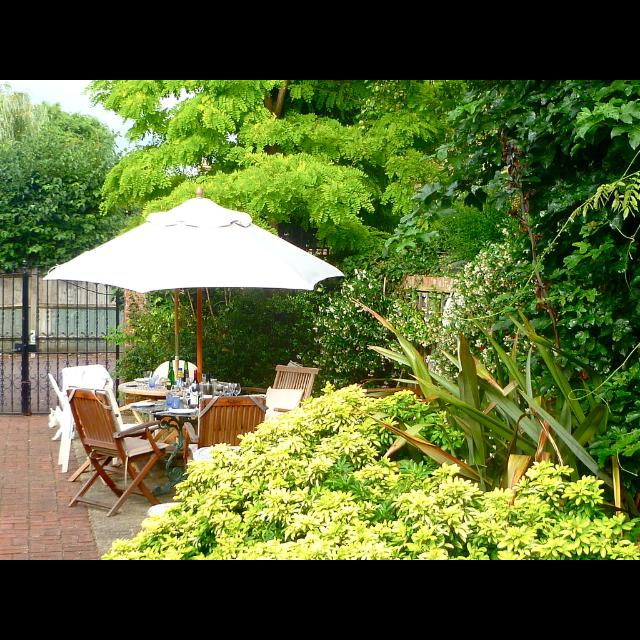Flower: (424, 208, 524, 384), (305, 264, 441, 382)
